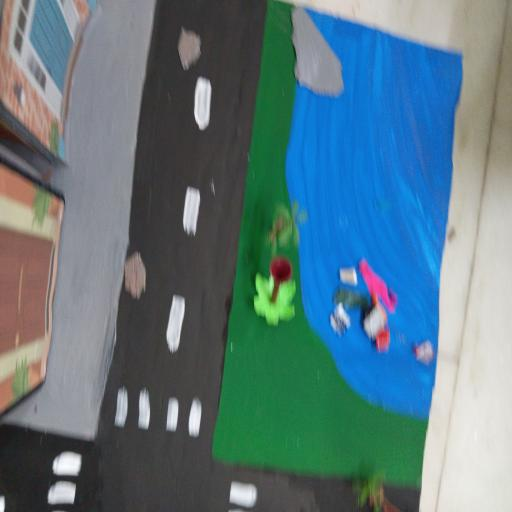encroachment: (290, 10, 336, 99)
porthole: (175, 25, 204, 68), (126, 253, 150, 300)
